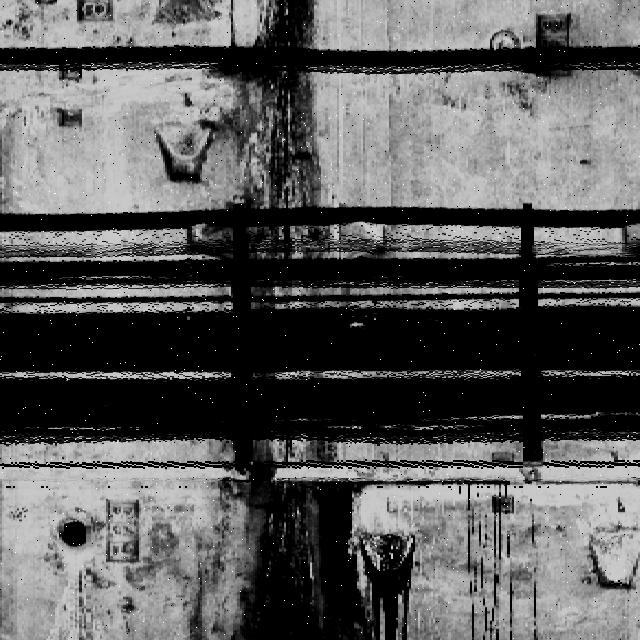leakage: (182, 445, 409, 640), (210, 1, 330, 262)
